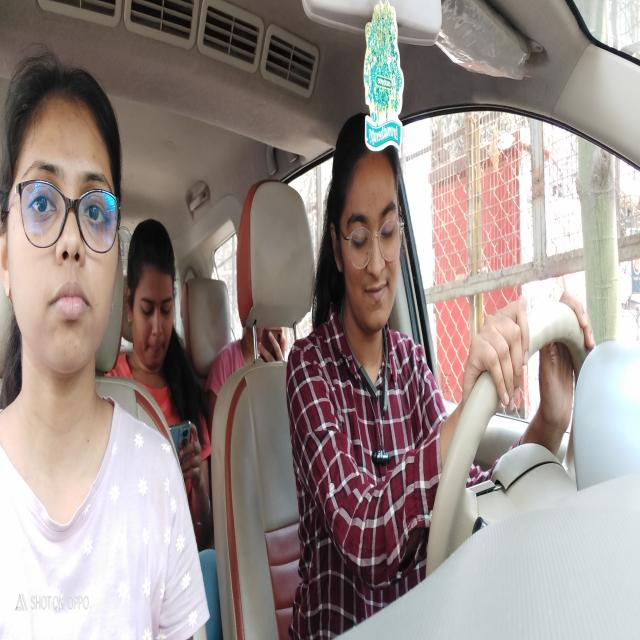drowsy: (331, 112, 404, 337)
person: (0, 56, 123, 383), (125, 216, 178, 378)
